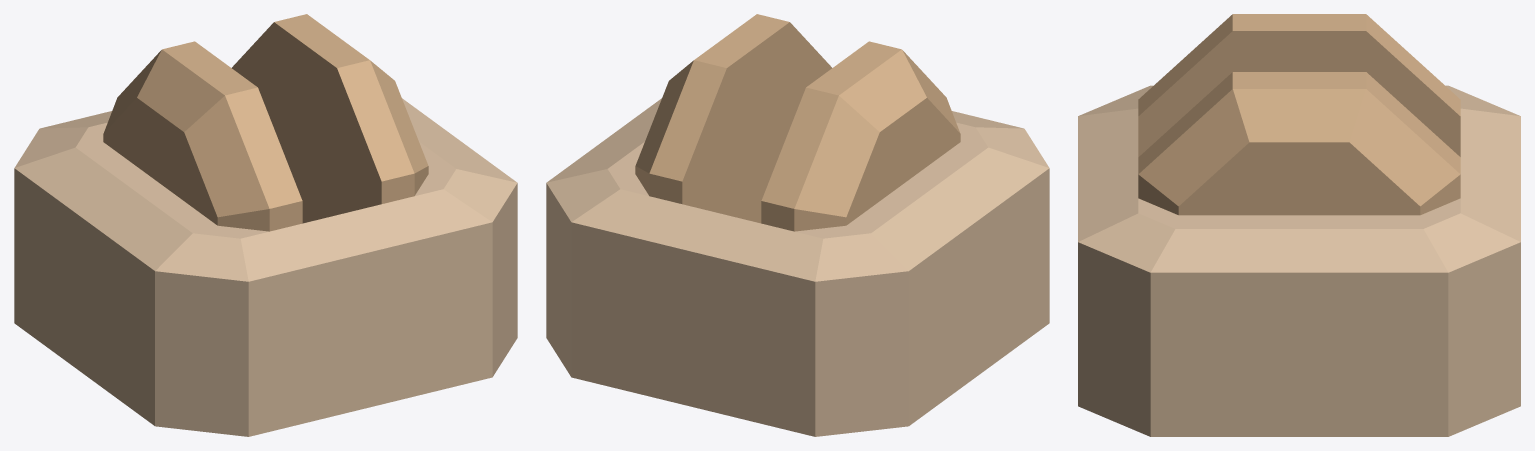
Rendered from Inter_base.glb.
The picture shows the model from 3 angles, left to right: view 1: azimuth 30°, elevation 25°; view 2: azimuth 150°, elevation 25°; view 3: azimuth 270°, elevation 25°; orthographic projection. The views are drawn at different scales.
Parts seen in each view (by area): view 1: Inter_base; view 2: Inter_base; view 3: Inter_base.
Boxes of the visible parts, left/top/right/bottom form: Inter_base: left=14, top=14, right=517, bottom=436; Inter_base: left=546, top=14, right=1049, bottom=436; Inter_base: left=1078, top=14, right=1520, bottom=436.
Size of the model in its own units: 0.55 by 0.4 by 0.55.
